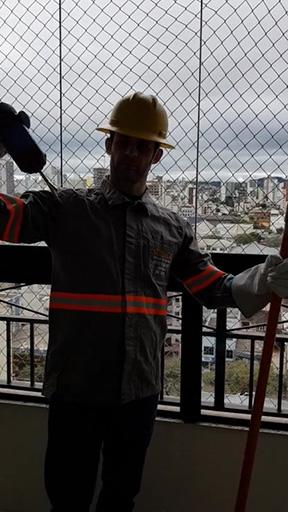Detector_Tensao_Contato: (1, 101, 62, 202)
